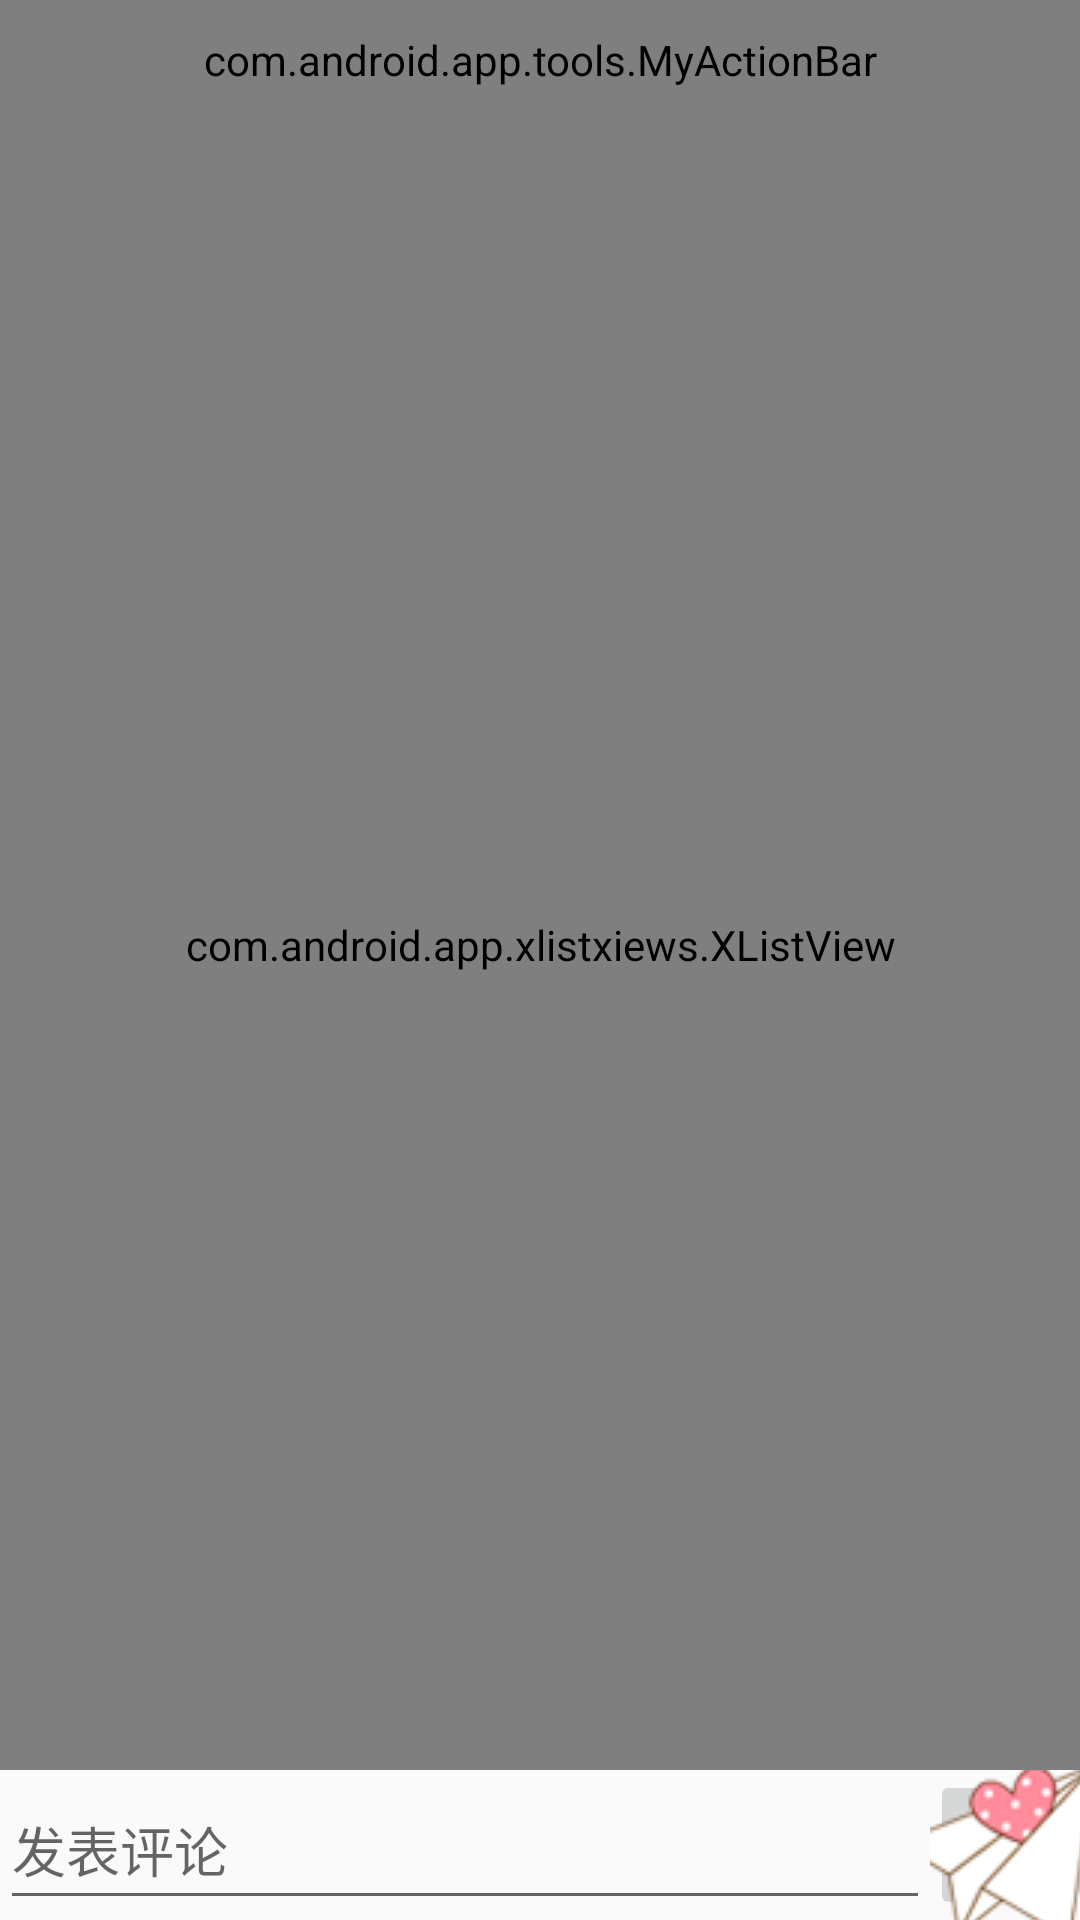

Point at icon controls on the screen. Image size 1080 x 1920, points as (x=x, y=y).
send: (x=1005, y=1845)
